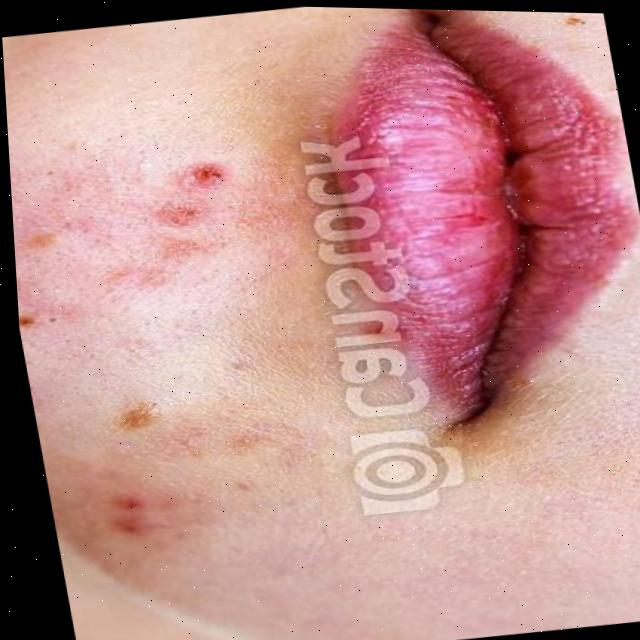Acne: (8, 136, 309, 564)
